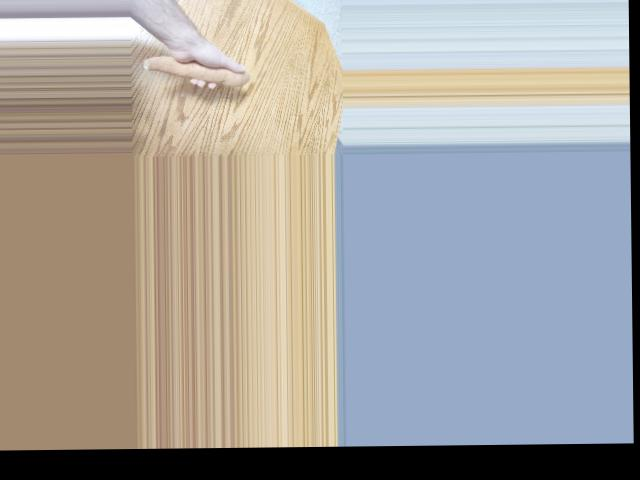sweet_potato: (139, 50, 248, 89)
